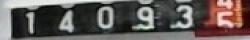digits: (175, 4, 195, 28), (136, 6, 156, 30), (57, 9, 74, 32), (96, 5, 113, 28), (216, 11, 234, 30), (24, 10, 36, 34)
